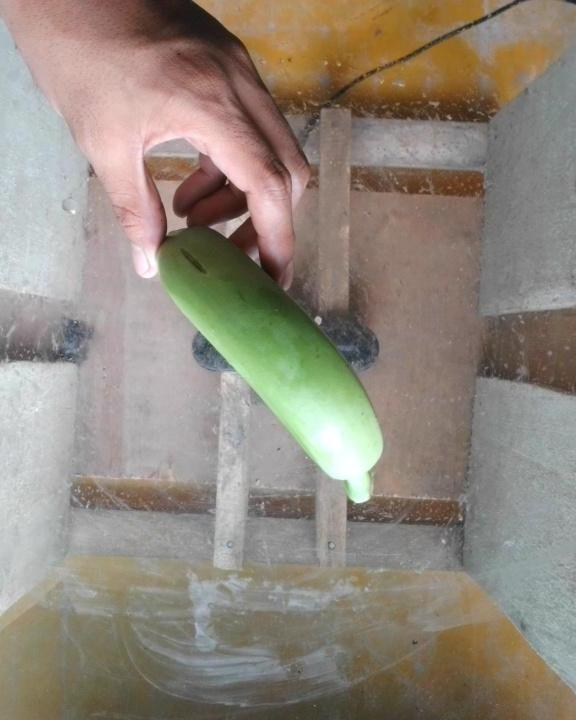CLASS B: (143, 217, 398, 508)
Class A: (172, 235, 216, 282)
